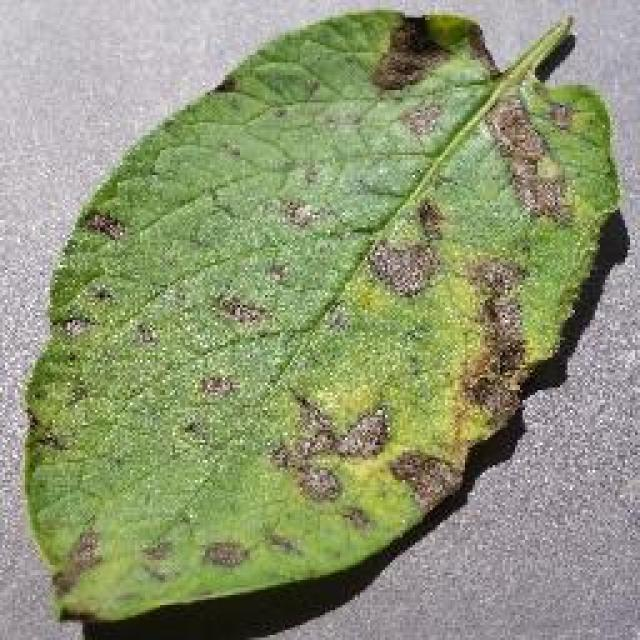Potato___Early_blight: (20, 9, 627, 626)
